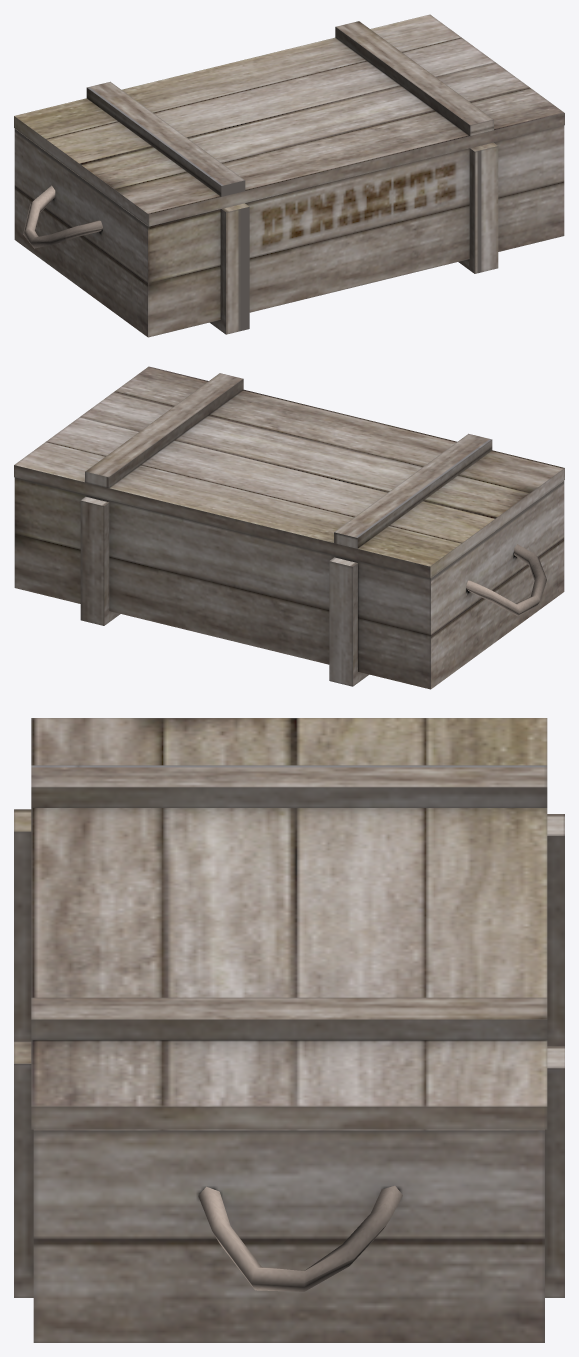
File: box_closed.FBX
3 renders of one model, top to bottom at view 1: azimuth 30°, elevation 25°; view 2: azimuth 150°, elevation 25°; view 3: azimuth 270°, elevation 25°, orthographic. The views are drawn at different scales.
Parts seen in each view (by area): view 1: box_closed; view 2: box_closed; view 3: box_closed.
Part boxes in pixels (x1,y1,x2,y2): box_closed: (14, 14, 564, 337); box_closed: (14, 366, 564, 689); box_closed: (14, 718, 564, 1342).
Size of the model in its own units: 218 by 59.21 by 106.
